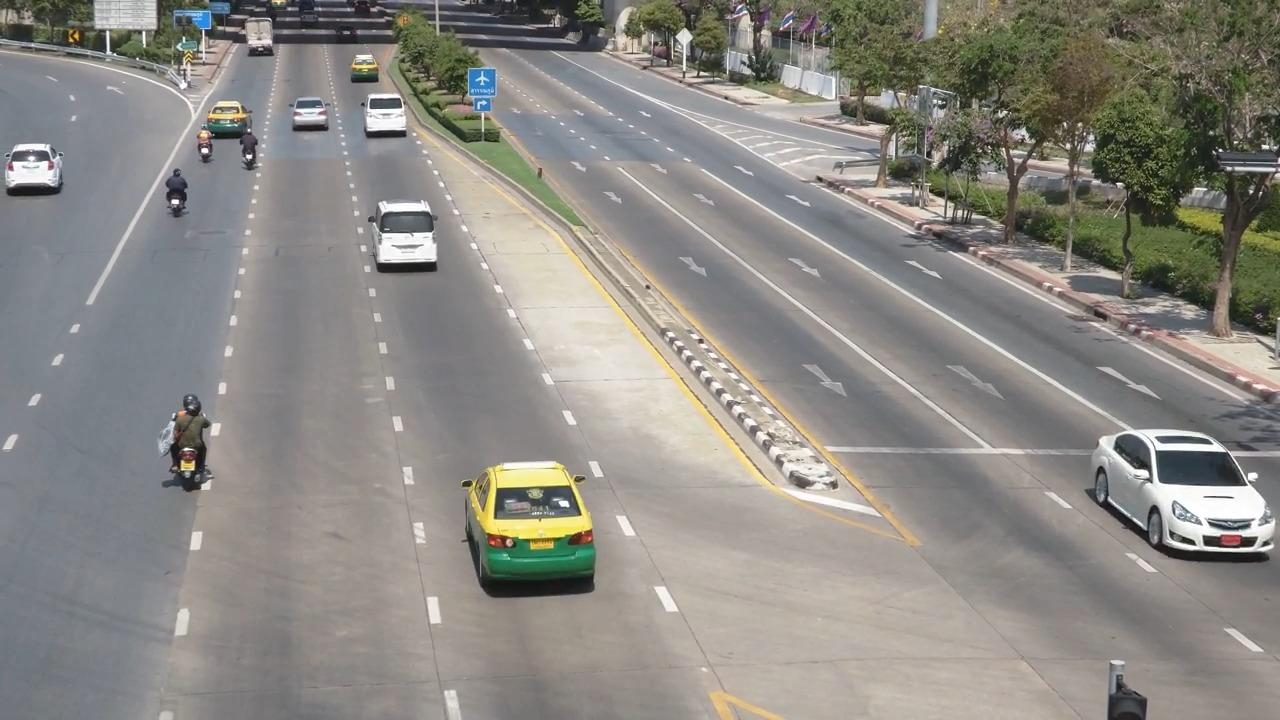CAR: (1076, 408, 1280, 567), (447, 453, 617, 605), (354, 184, 464, 289), (5, 133, 70, 215), (349, 87, 424, 156), (280, 96, 345, 151), (238, 11, 284, 65), (203, 93, 252, 137), (341, 52, 392, 88)
MOTOR: (146, 376, 237, 501), (151, 164, 193, 233), (228, 123, 269, 189), (185, 126, 219, 174)
